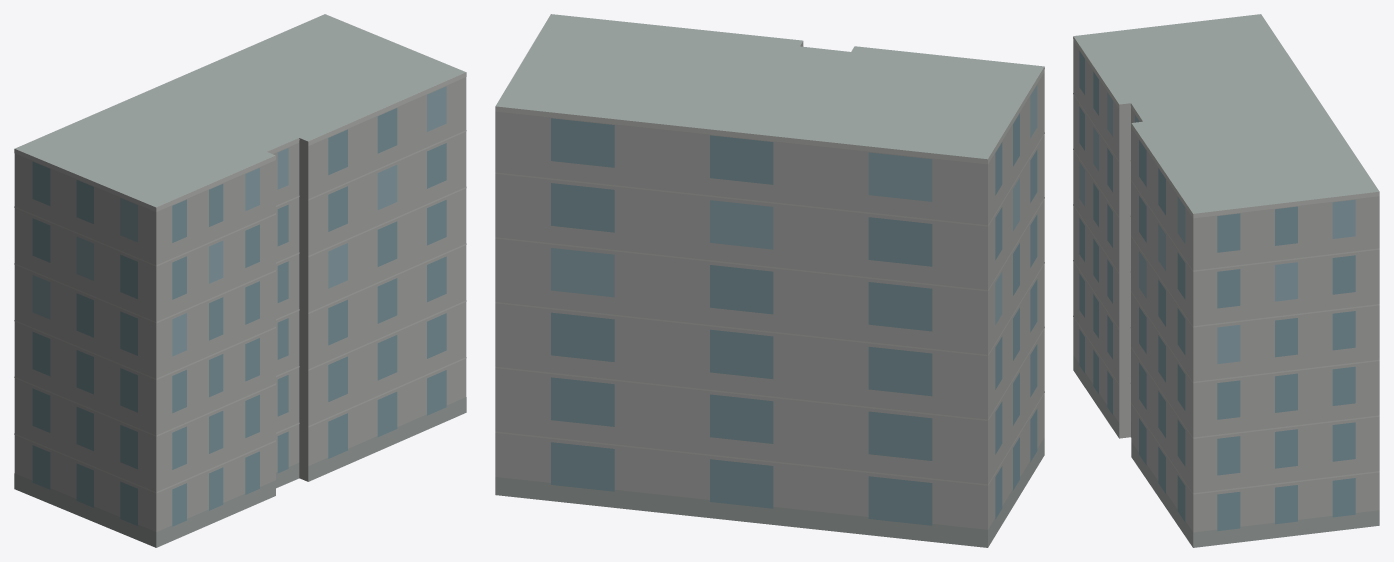
File: survey-upis-32996427.glb
3 views of the same model, side by side, from view 1: azimuth 30°, elevation 25°; view 2: azimuth 150°, elevation 25°; view 3: azimuth 270°, elevation 25° (orthographic). The views are drawn at different scales.
Parts seen in each view (by area): view 1: survey-upis-32996427.tmp; view 2: survey-upis-32996427.tmp; view 3: survey-upis-32996427.tmp.
Boxes of the visible parts, x1,y1,x2,y2 form: survey-upis-32996427.tmp: (14,14,466,547); survey-upis-32996427.tmp: (495,14,1044,547); survey-upis-32996427.tmp: (1073,14,1379,547).
Size of the model in its own units: 23.25 by 18.1 by 15.07.
